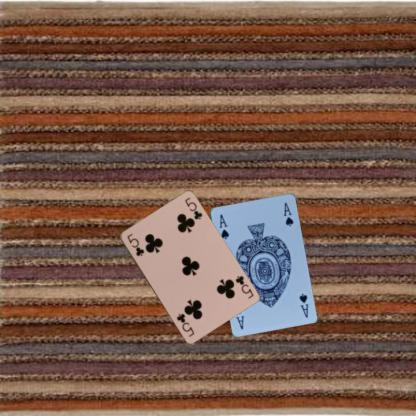5c: (232, 273, 254, 300), (124, 231, 145, 257)
As: (216, 211, 230, 240), (297, 291, 309, 319)
